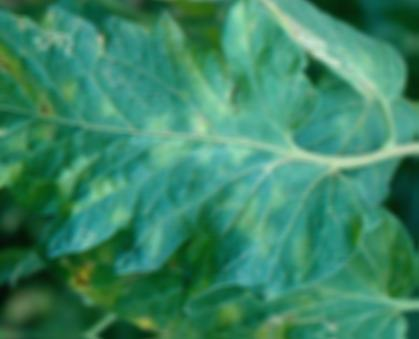Tomato mold leaf: (0, 2, 387, 310)
